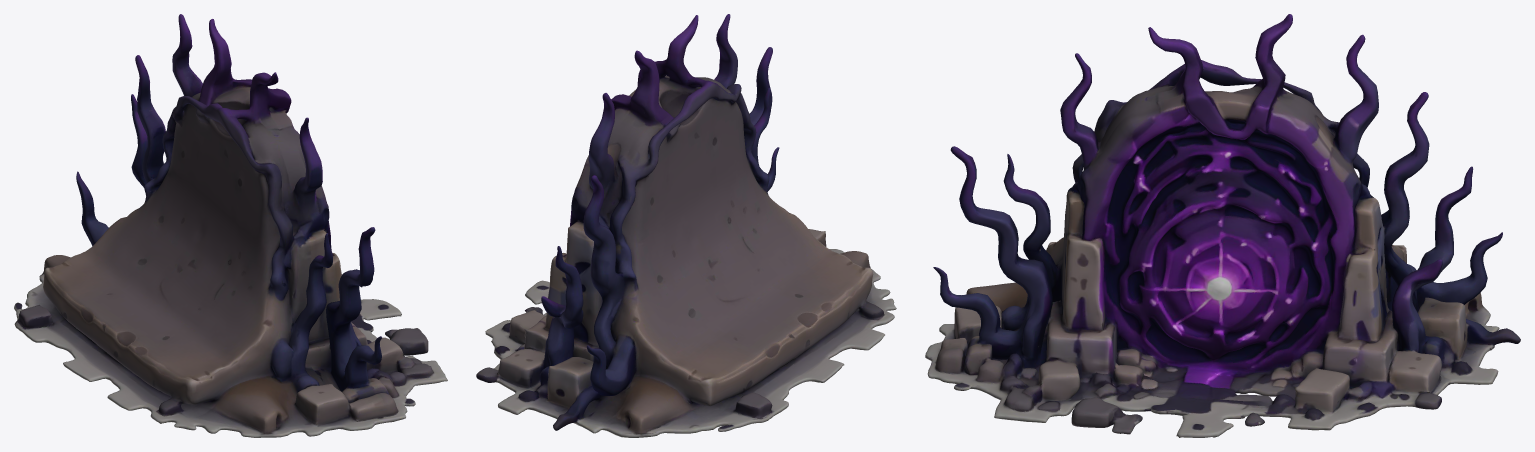
The model's file is SM_Environment_MagicPortal_01.fbx.
3 views of the same model, side by side, from view 1: azimuth 30°, elevation 25°; view 2: azimuth 150°, elevation 25°; view 3: azimuth 270°, elevation 25° (orthographic). The views are drawn at different scales.
Visible parts, largest first — view 1: SM_Environment_MagicPortal_01; view 2: SM_Environment_MagicPortal_01; view 3: SM_Environment_MagicPortal_01.
Part boxes in pixels (left/top/right/bottom): SM_Environment_MagicPortal_01: left=14, top=14, right=447, bottom=437; SM_Environment_MagicPortal_01: left=476, top=14, right=896, bottom=437; SM_Environment_MagicPortal_01: left=925, top=14, right=1520, bottom=437.
Size of the model in its own units: 0.689 by 0.6377 by 0.9942.
Materials: 1 (1 with a texture image).
